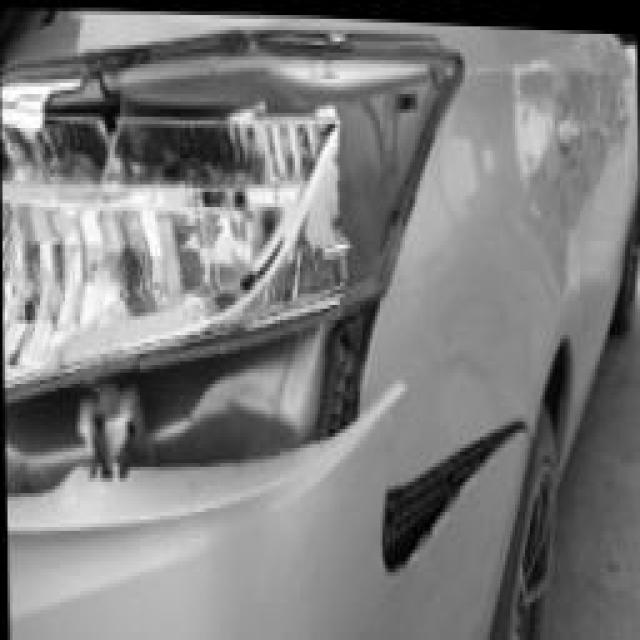Bumper: (5, 346, 517, 640)
Light: (0, 30, 430, 358)
